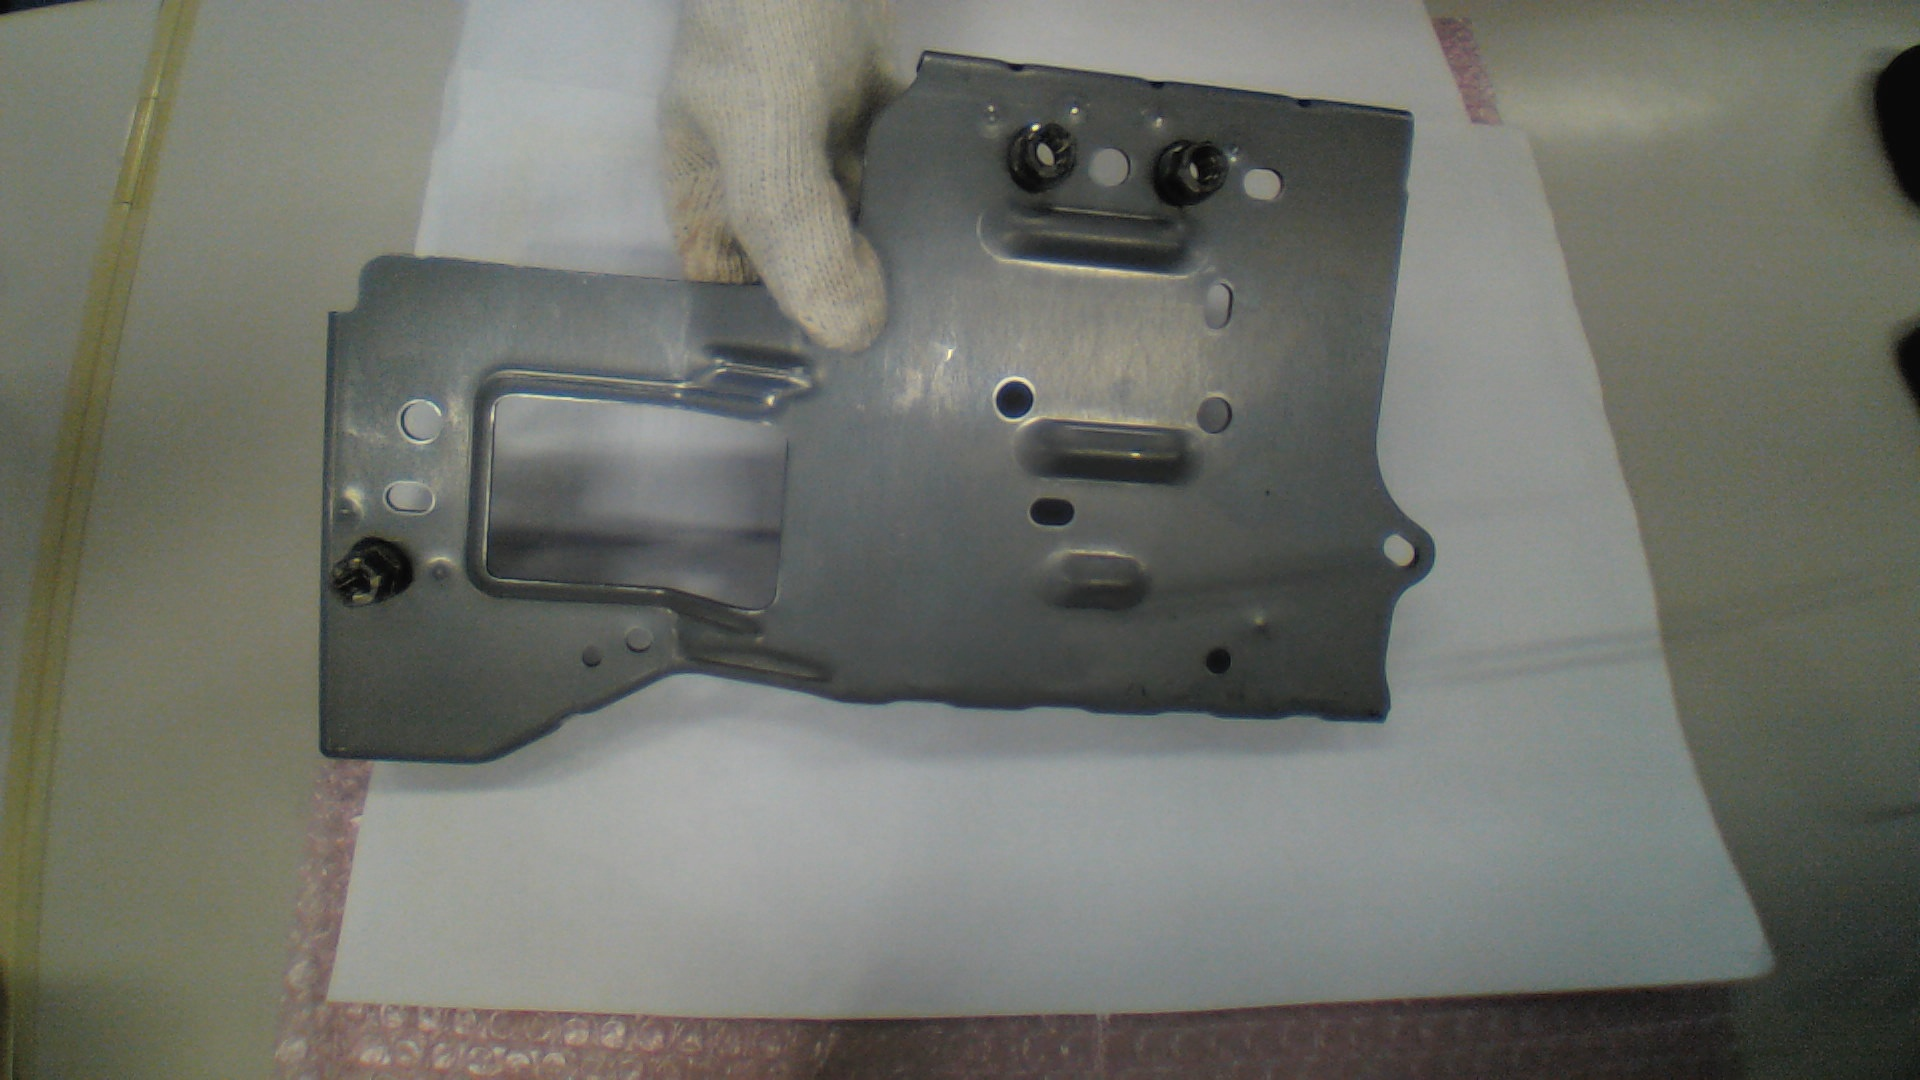dog: (331, 537, 415, 609), (1154, 140, 1229, 207), (1009, 121, 1075, 194)
